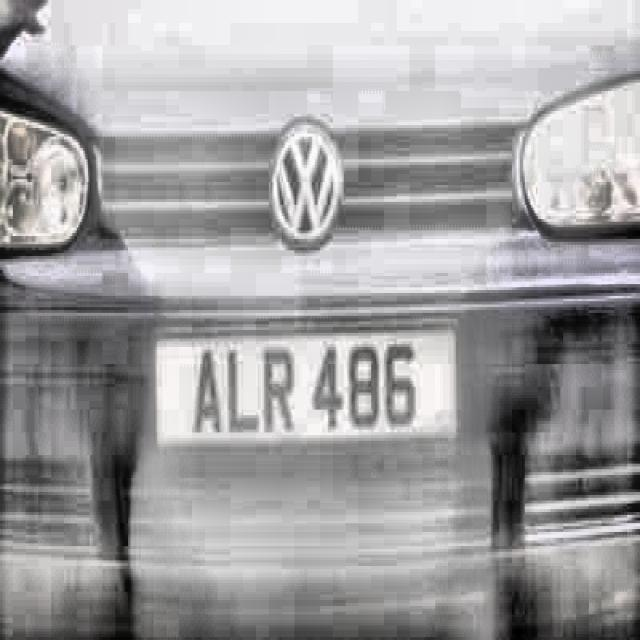license_plate: (157, 338, 460, 452)
